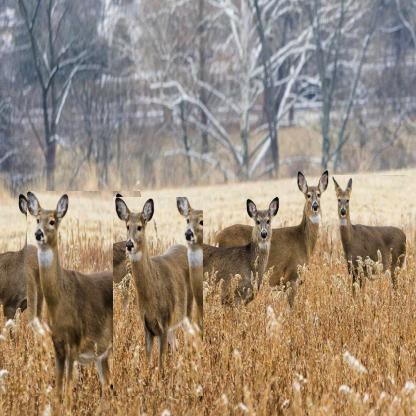Deer: (27, 191, 140, 416), (214, 170, 330, 341), (113, 197, 204, 396), (183, 196, 279, 346), (332, 175, 406, 306), (0, 193, 51, 355)
